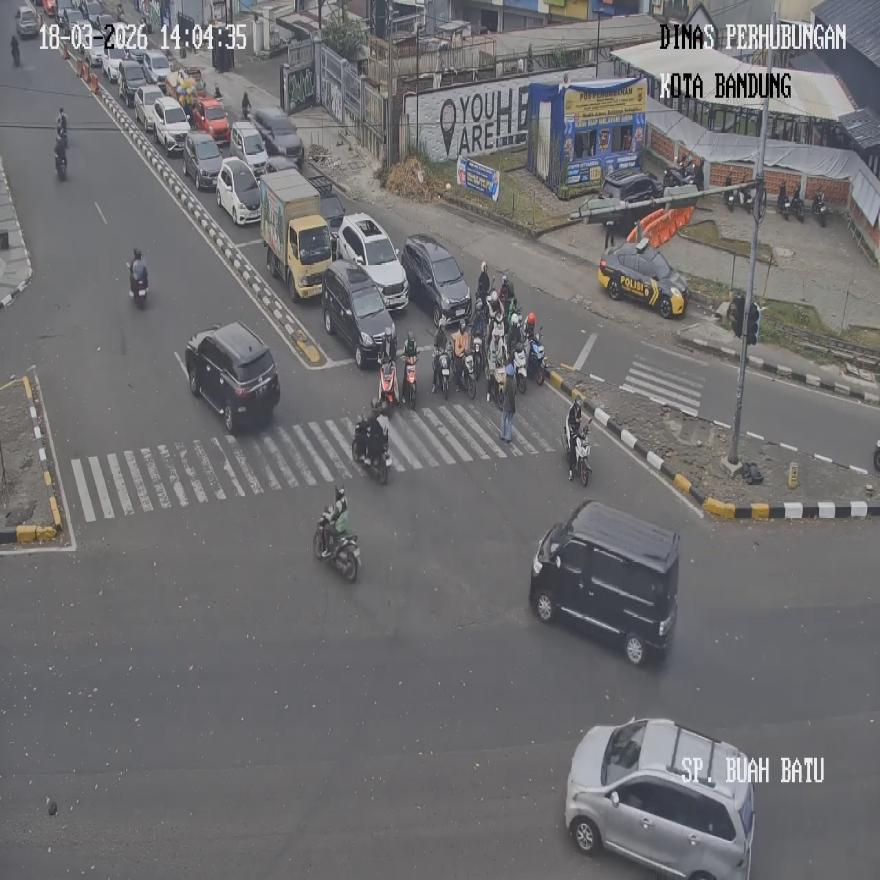Motor: (564, 716, 755, 878), (528, 499, 680, 666), (184, 320, 280, 431), (321, 260, 394, 365), (338, 212, 409, 312), (401, 232, 470, 328)
Truk: (314, 509, 360, 580), (352, 412, 390, 484), (566, 420, 591, 486), (376, 356, 396, 413), (528, 325, 546, 386), (127, 258, 148, 308), (458, 344, 475, 399), (432, 348, 450, 398), (402, 353, 418, 407), (513, 344, 527, 392), (54, 134, 67, 180), (812, 191, 826, 226), (789, 192, 805, 222), (724, 176, 737, 211), (777, 183, 789, 220), (11, 35, 21, 66), (241, 92, 252, 119)
